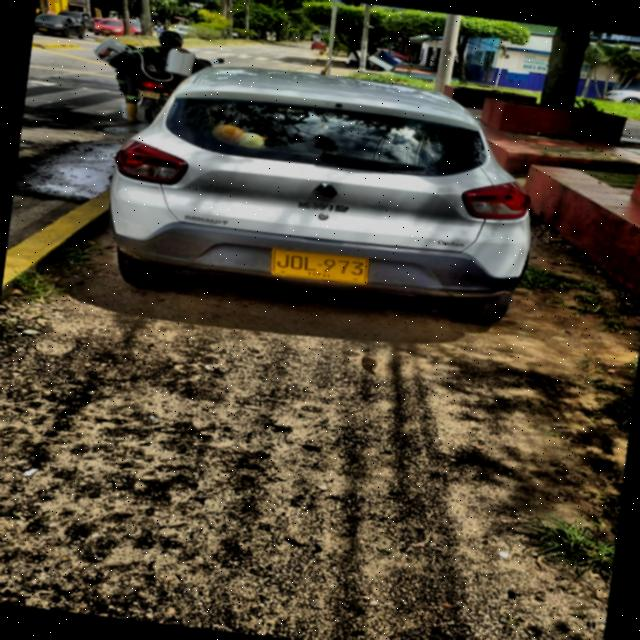3: (348, 260, 364, 276)
7: (335, 259, 350, 275)
9: (321, 258, 336, 274)
J: (275, 252, 290, 268)
L: (302, 256, 318, 272)
O: (288, 254, 304, 270)
